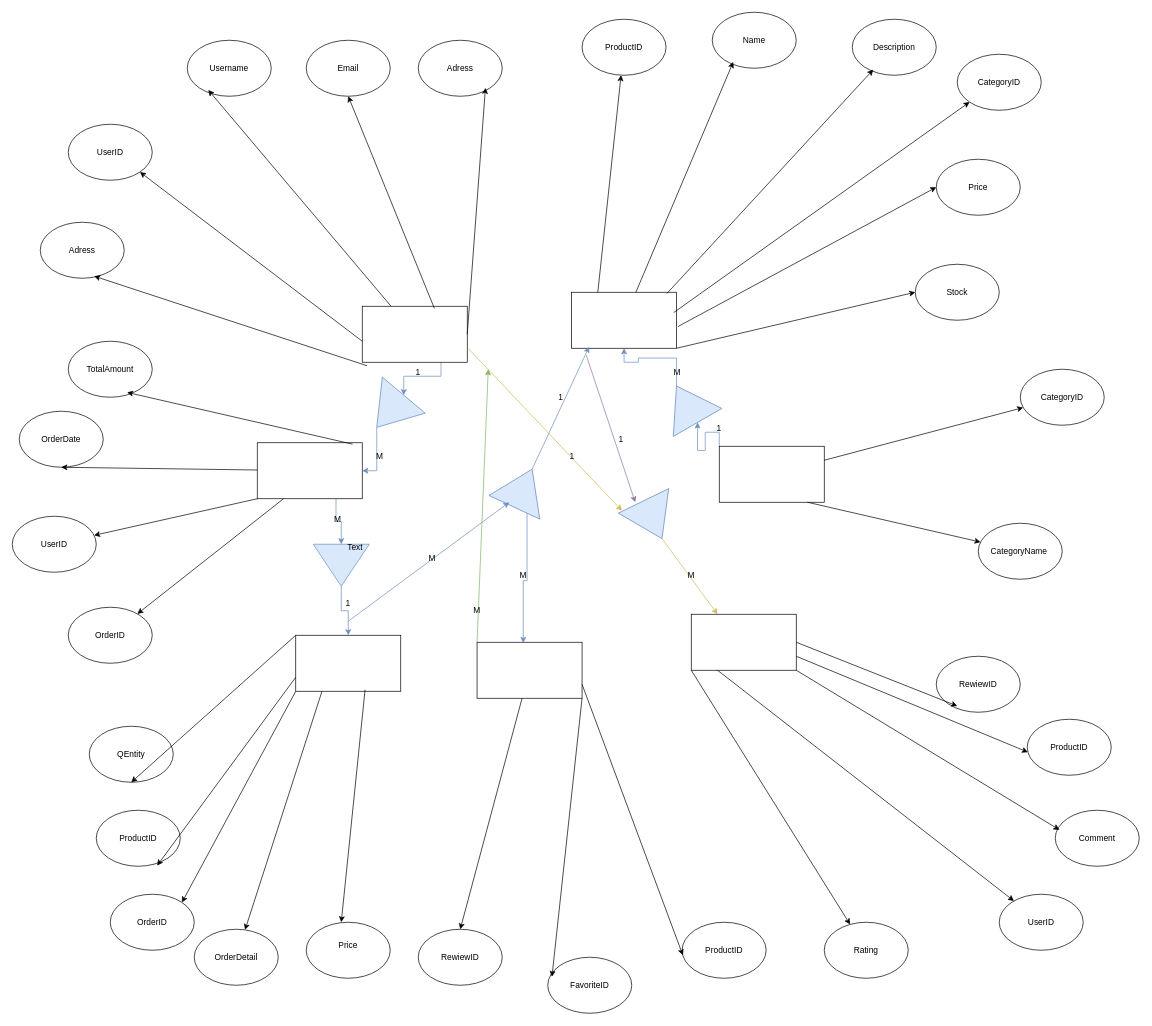
Some shapes in this 1152 by 1026 pixel diagram are drawn without their labels. The shapes that lost their labels are listed below. From the top down, each one's box as (x1, y1, x2, y2) in pixels, then its label:
(362, 306, 467, 362): User
(571, 292, 677, 348): Products
(257, 442, 362, 499): Orders
(719, 446, 824, 502): Category
(691, 614, 796, 670): Rewiews
(295, 635, 401, 691): OrderDetails
(476, 642, 582, 698): Favorite
